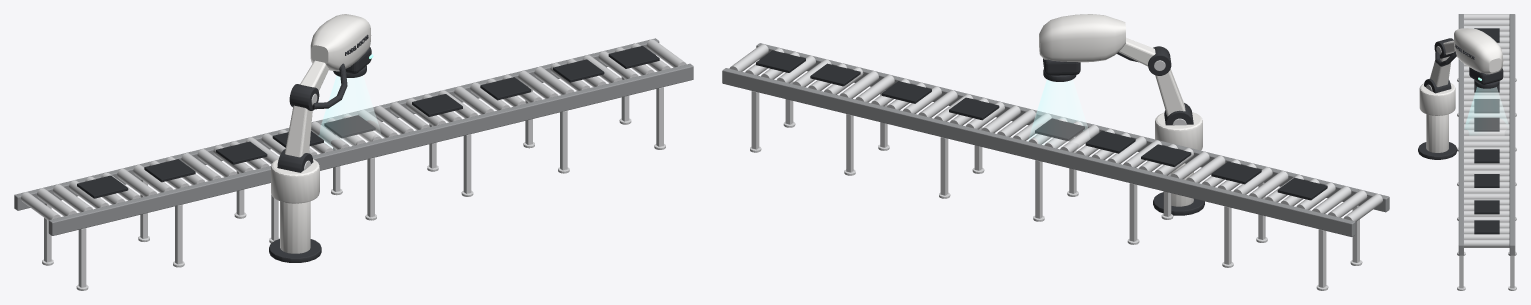
Rendered from hero.glb.
3 renders of one model, left to right at view 1: azimuth 30°, elevation 25°; view 2: azimuth 150°, elevation 25°; view 3: azimuth 270°, elevation 25°, orthographic. The views are drawn at different scales.
Parts seen in each view (by area): view 1: ConveyorRail_N, ConveyorLegs, Beam, ConveyorRail_P, ScannerHead, ArmBase, ArmPedestal, ArmShoulder, Payload_00, Payload_01, Payload_02, Payload_06 (+21 smaller); view 2: ConveyorRail_P, ConveyorLegs, ScannerHead, Beam, ConveyorRail_N, ArmBase, ArmShoulder, Payload_00, Payload_04, Payload_02, Payload_06, InspectionObject (+21 smaller); view 3: ScannerHead, ConveyorRail_P, Beam, ConveyorRail_N, ArmBase, ArmPedestal, ConveyorLegs, ArmShoulder, Roller_39, ArmPedestalFoot, InspectionObject, Payload_04 (+45 smaller).
Part boxes in pixels (x1,y1,x2,y2): ConveyorRail_N: (48,63,693,235); ConveyorLegs: (42,77,665,290); Beam: (319,76,382,149); ConveyorRail_P: (14,38,659,210); ScannerHead: (310,14,371,71); ArmBase: (271,158,319,203); ArmPedestal: (280,201,310,253); ArmShoulder: (285,105,312,157); Payload_00: (77,175,128,198); Payload_01: (144,159,195,182); Payload_02: (216,141,267,164); Payload_06: (553,59,604,82); ConveyorRail_P: (722,68,1355,236); ConveyorLegs: (750,81,1362,290); ScannerHead: (1039,14,1125,62); Beam: (1028,79,1090,152); ConveyorRail_N: (756,43,1389,212); ArmBase: (1155,112,1202,150); ArmShoulder: (1155,69,1185,116); Payload_00: (1277,177,1327,200); Payload_04: (949,97,999,120); Payload_02: (1141,144,1191,166); Payload_06: (810,63,860,86); InspectionObject: (1035,118,1084,140); ScannerHead: (1454,28,1503,74); ConveyorRail_P: (1509,14,1515,255); Beam: (1464,87,1508,135); ConveyorRail_N: (1458,14,1463,255); ArmBase: (1419,83,1455,115); ArmPedestal: (1426,114,1448,152); ConveyorLegs: (1457,78,1516,290); ArmShoulder: (1430,56,1450,86); Roller_39: (1464,239,1509,247); ArmPedestalFoot: (1418,142,1457,159); InspectionObject: (1474,117,1499,131); Payload_04: (1474,149,1499,163).
Size of the model in its own units: 6 by 1.72 by 1.08.
